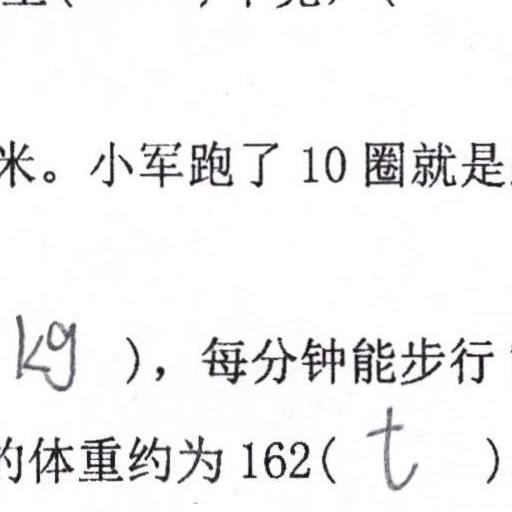ans: (6, 307, 79, 393), (360, 403, 420, 494)
